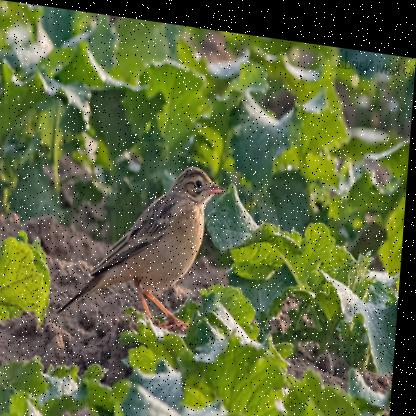Burung: (62, 146, 231, 341)
